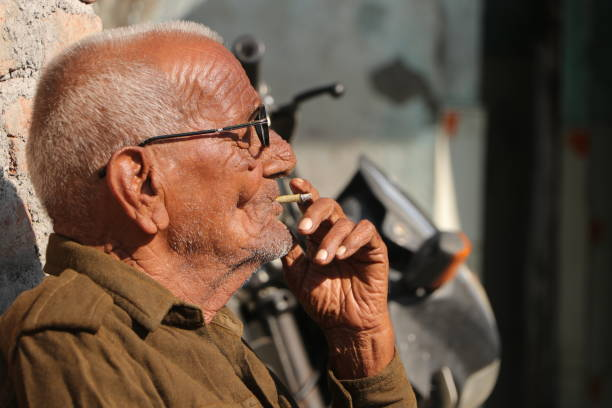cigarette: (275, 193, 315, 203)
